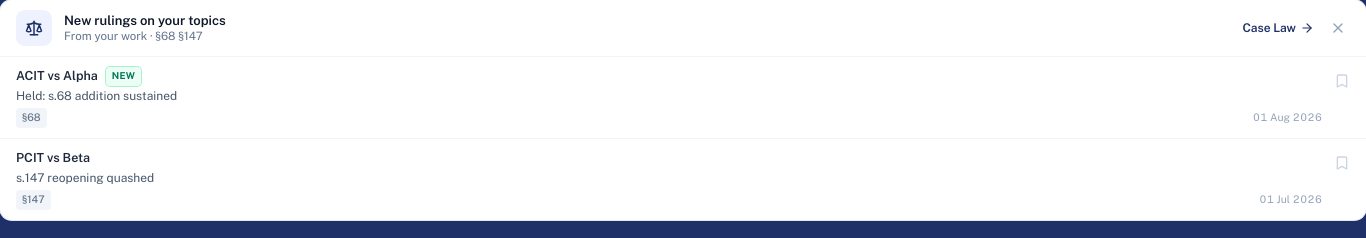
it: RulingAlerts › saves a ruling to the library with the right payload
The image size is (1366, 238).
expect the text "ACIT vs Alpha" is shown: met, box [16,67,98,86]
Click the button named "save to library" in the row of "ACIT vs Alpha" at [1342, 81], box [1328,67,1356,95]
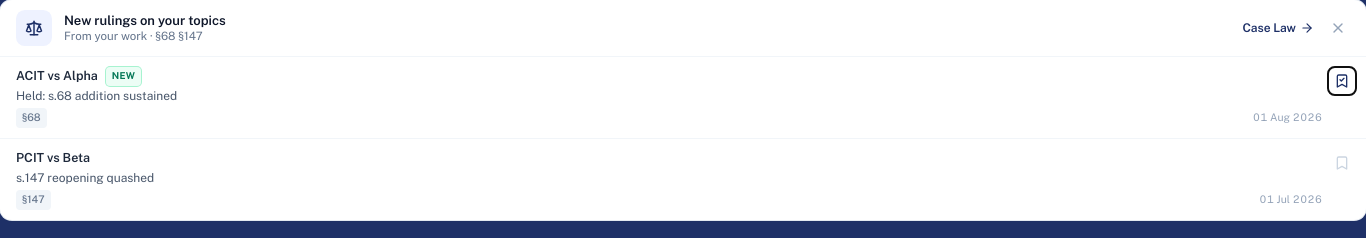
expect the button named "remove from library" is shown: met, box [1328,67,1356,95]
